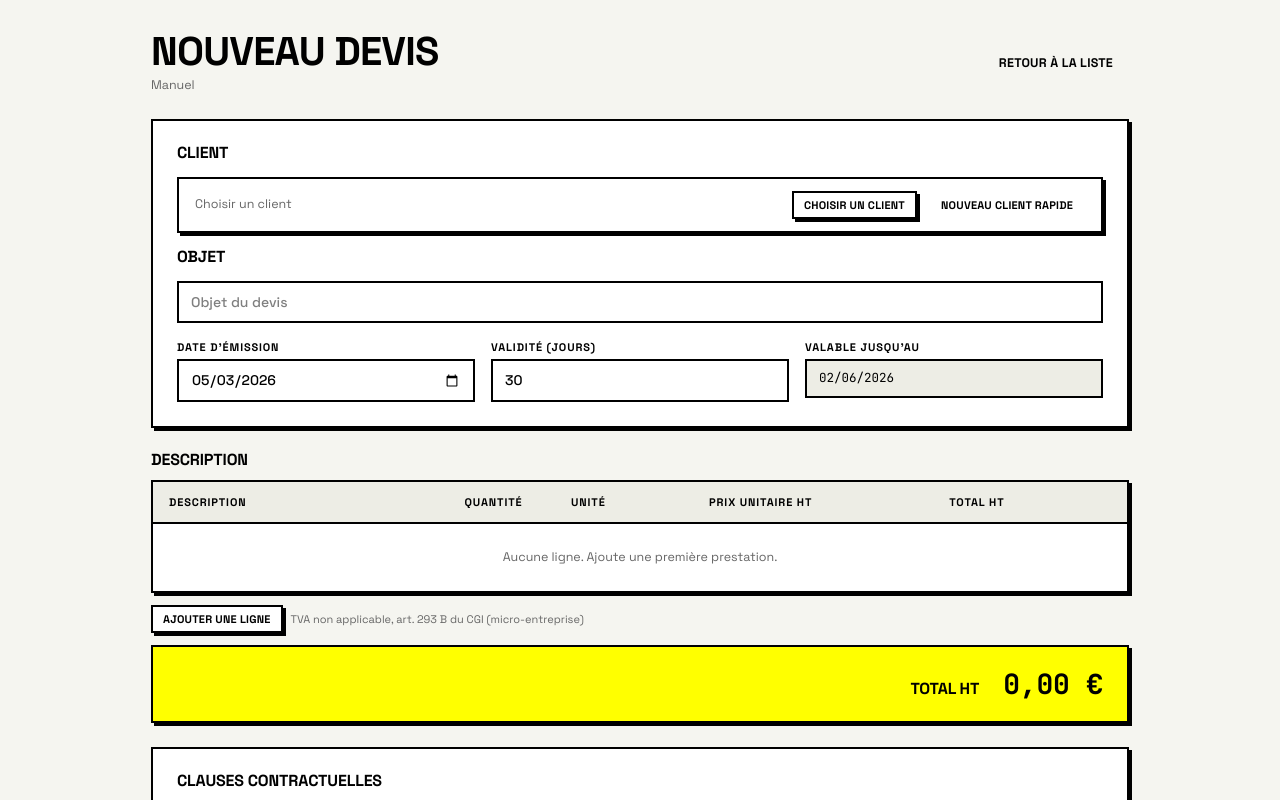
it: NewManual › recalcule le total global quand on saisit quantité×prix
Click the button with test id "items-add": [217, 619] box [151,605,283,633]
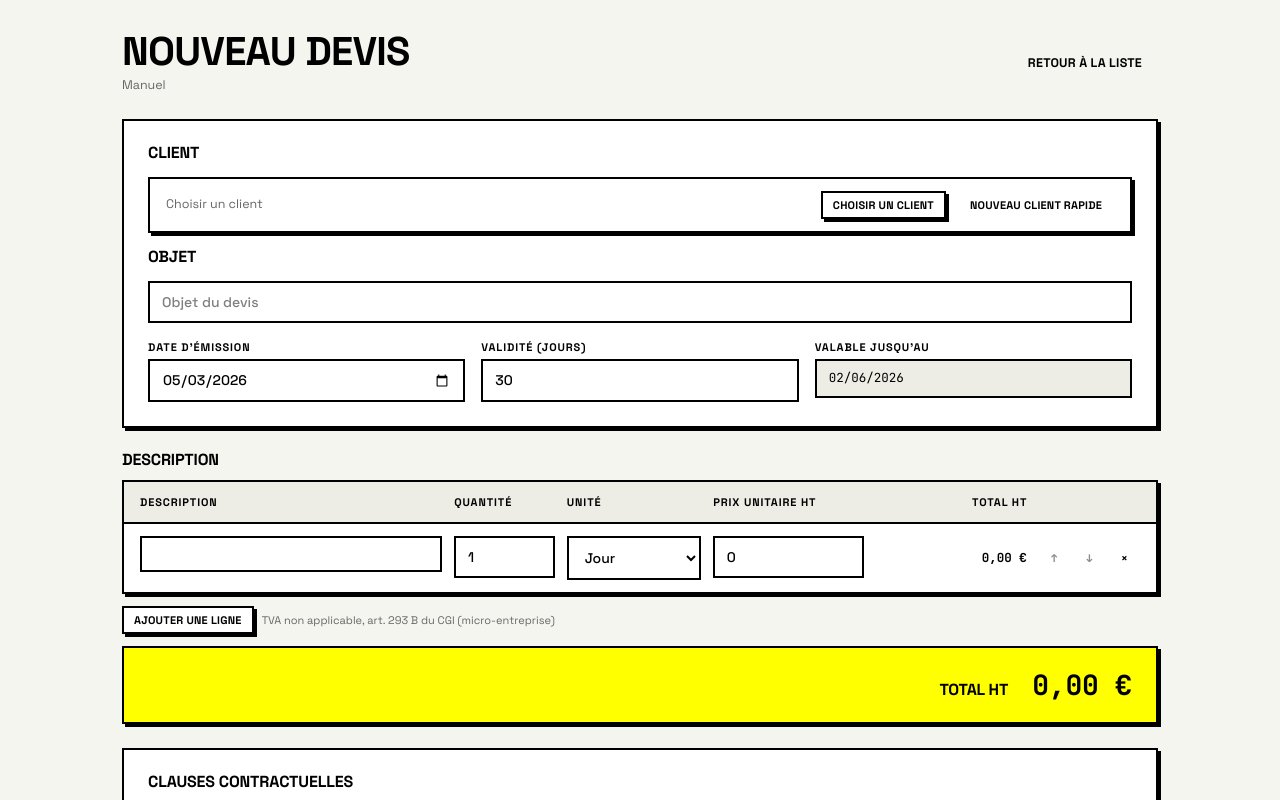
Replace the text in the number field named "Quantité" with "2": [504, 557] box [454,536,555,578]
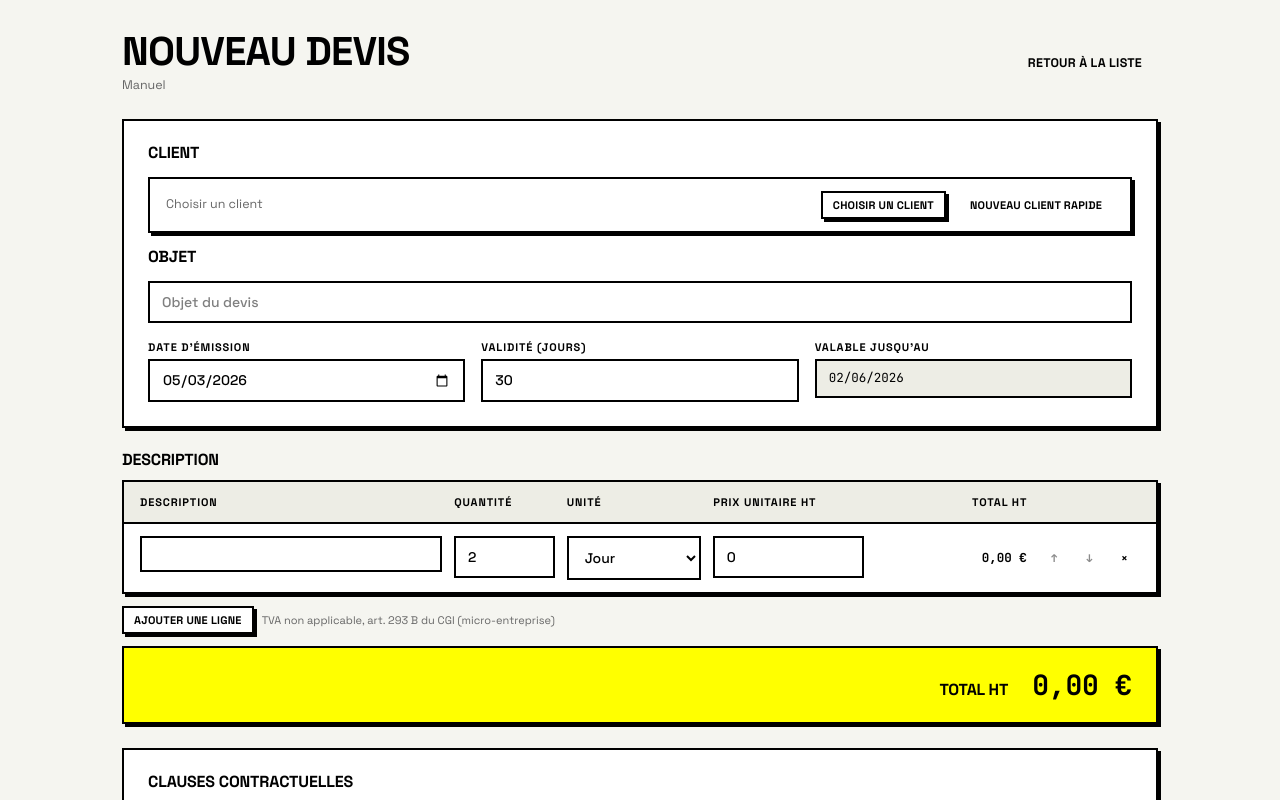
Replace the text in the number field named "Prix unitaire HT" with "1500": [788, 557] box [713,536,864,578]
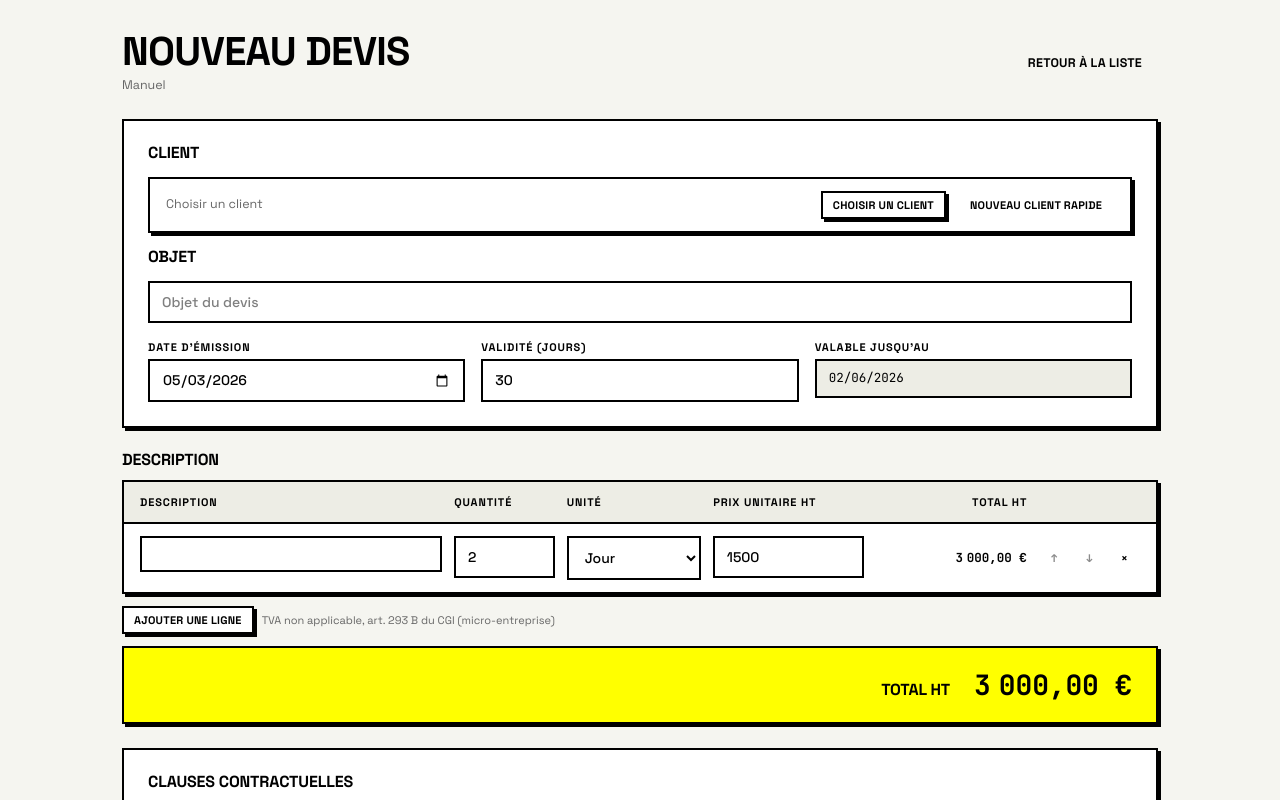
Now the text with test id "quote-total" shows "3", box [974,666,1132,703]
Now the text with test id "quote-total" shows "000,00", box [974,666,1132,703]
